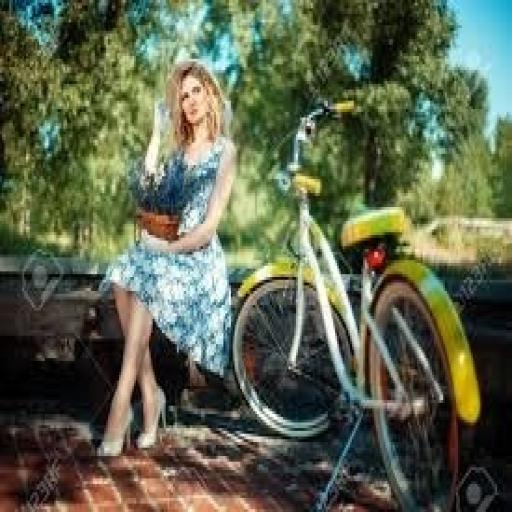sitting: (93, 56, 238, 456)
